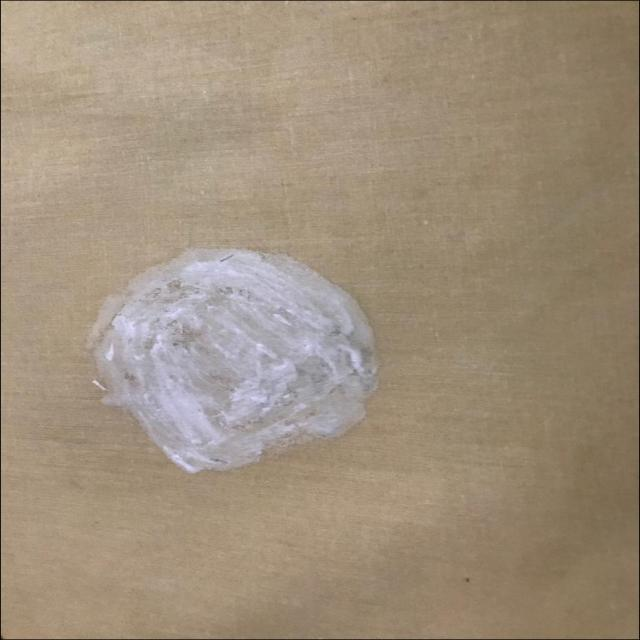Stain: (88, 249, 377, 473)
